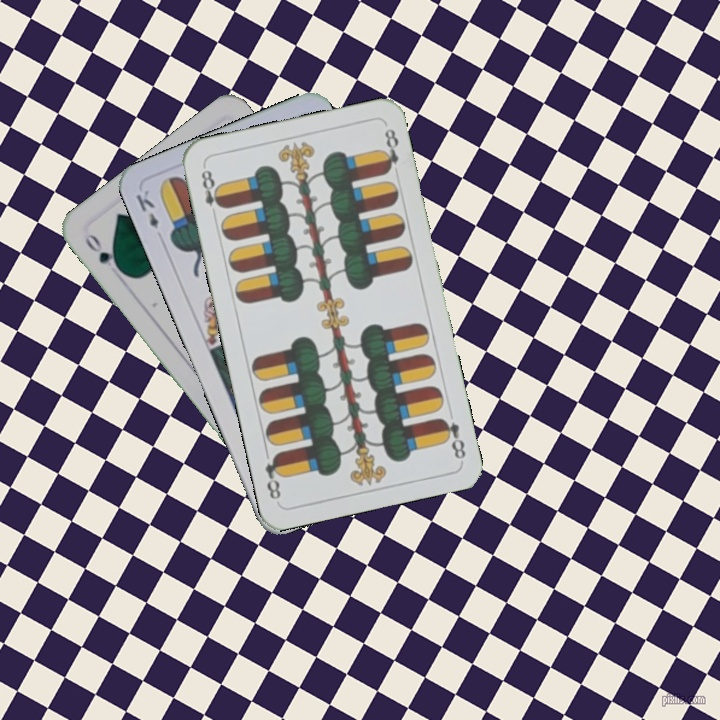E8: (197, 162, 226, 221), (436, 414, 469, 462)
EK: (132, 185, 161, 231)
GO: (80, 229, 126, 276)
